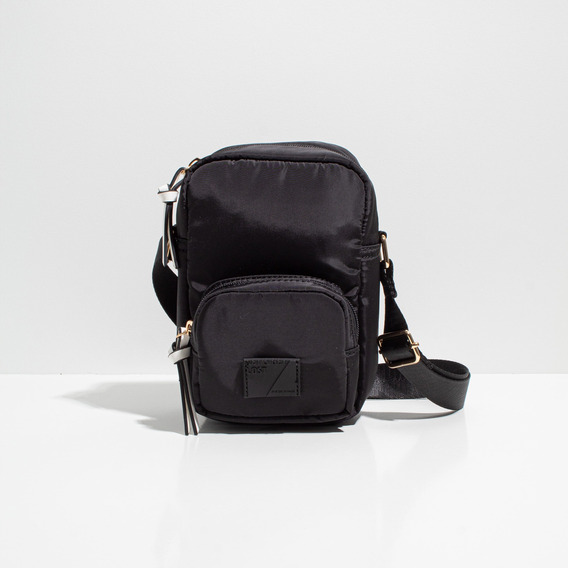cartera: (149, 137, 472, 433)
